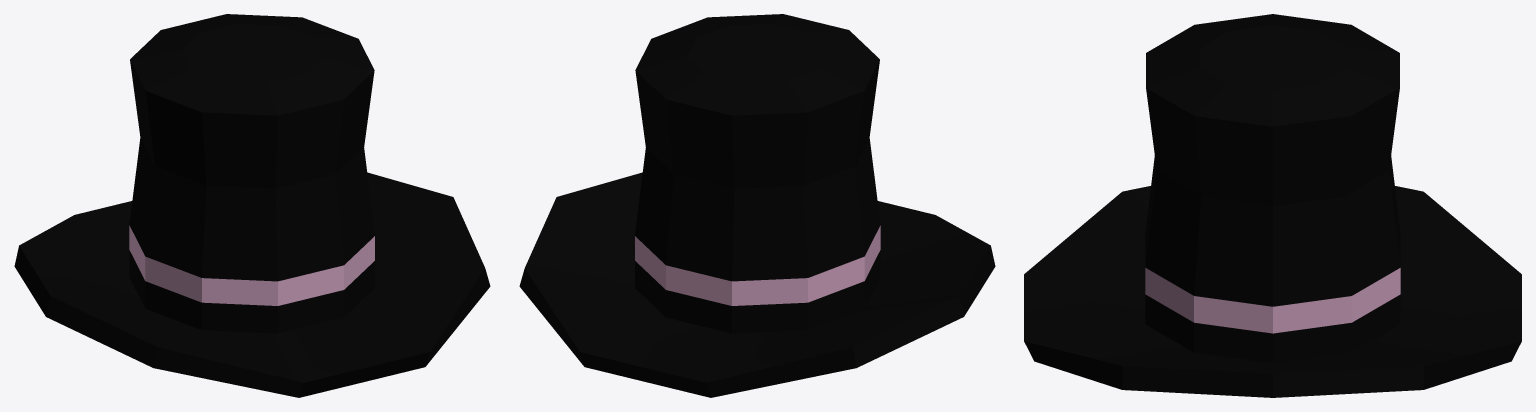
Rendered from TopHat.fbx.
The picture shows the model from 3 angles, left to right: view 1: azimuth 30°, elevation 25°; view 2: azimuth 150°, elevation 25°; view 3: azimuth 270°, elevation 25°; orthographic projection. The views are drawn at different scales.
Visible parts, largest first — view 1: TopHat; view 2: TopHat; view 3: TopHat.
Part boxes in pixels (bbox=[...]): TopHat: bbox=[14, 14, 490, 397]; TopHat: bbox=[519, 14, 995, 397]; TopHat: bbox=[1024, 14, 1521, 397].
Bounding box in the file's own units: 3.86 × 2.23 × 3.71.
